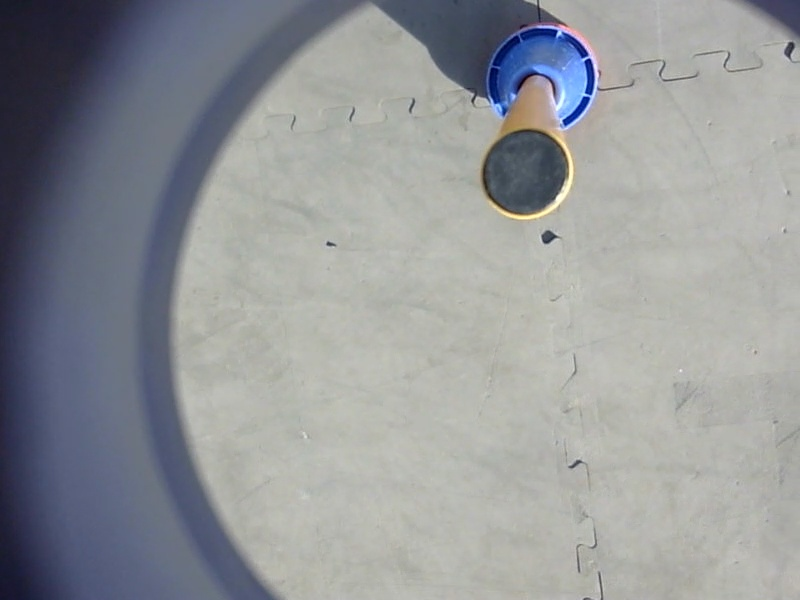tip: (472, 125, 582, 227)
